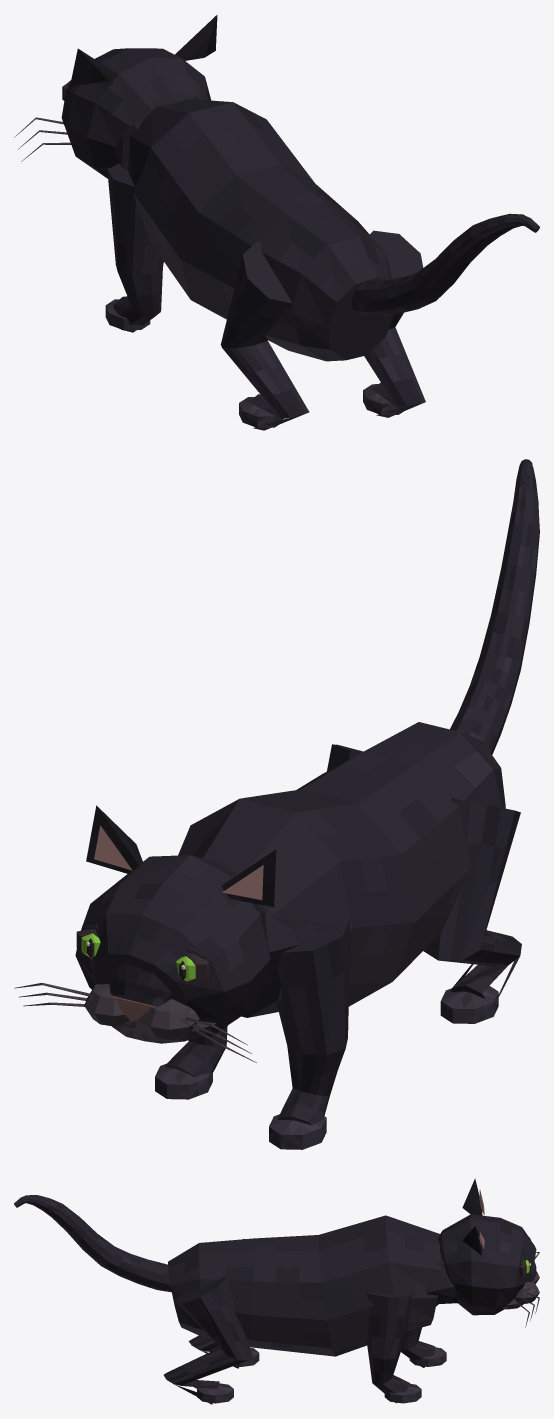
The model's file is mon_cat_black_kitten.glb.
3 views of the same model, one above another, from view 1: azimuth 30°, elevation 25°; view 2: azimuth 150°, elevation 25°; view 3: azimuth 270°, elevation 25° (orthographic). The views are drawn at different scales.
Parts seen in each view (by area): view 1: closed_body; view 2: closed_body; view 3: closed_body.
Part boxes in pixels (x1=…): closed_body: x1=14, y1=15, x2=539, y2=430; closed_body: x1=14, y1=459, x2=539, y2=1149; closed_body: x1=14, y1=1178, x2=539, y2=1404.
Bounding box in the file's own units: 0.0967 × 0.152 × 0.3455.
1 material, 1 textured.
